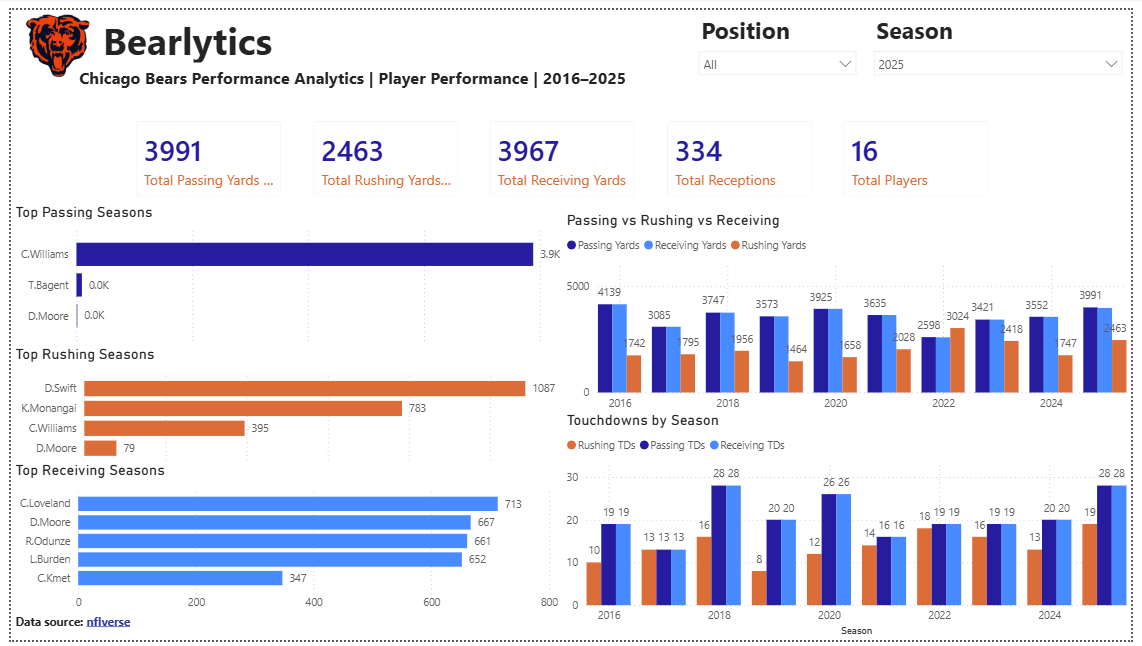

The dashboard page shown, as its layout file describes it:
{"tool":"powerbi","page":{"name":"Player Performance","canvas":[1280,720],"ordinal":2},"visuals":[{"type":"textbox","box":[100,0,220,90],"z":0},{"type":"image","box":[0,0,106.7,81.7],"z":1000},{"type":"slicer","fields":{"Values":["Dim Season.Season"]},"box":[975.7,0,304.3,100],"z":2000},{"type":"textbox","box":[73.3,60,681.7,36.7],"z":3000},{"type":"cardVisual","fields":{"Data":["Measuress.Total Passing Yards (Players)"]},"box":[126.3,110.3,200,120],"z":4000},{"type":"cardVisual","fields":{"Data":["Measuress.Total Rushing Yards (Players)"]},"box":[328.3,110.3,200,120],"z":5000},{"type":"cardVisual","fields":{"Data":["Measuress.Total Receiving Yards"]},"box":[530.3,110.3,200,120],"z":6000},{"type":"cardVisual","fields":{"Data":["Measuress.Total Receptions"]},"box":[732.3,110.3,200,120],"z":7000},{"type":"cardVisual","fields":{"Data":["Dim Date.Total Players"]},"box":[934.3,110.3,200,120],"z":8000},{"type":"clusteredBarChart","title":"Top Passing Seasons","fields":{"Category":["Dim Players.Player_Name"],"Y":["Sum(Fact Player Stats.Passing_Yards)"]},"box":[0,220,640,187.1],"z":9000},{"type":"clusteredBarChart","title":"Top Rushing Seasons","fields":{"Category":["Dim Players.Player_Name"],"Y":["Sum(Fact Player Stats.Rushing_Yards)"]},"box":[0,382.9,640,165.7],"z":10000},{"type":"clusteredBarChart","title":"Top Receiving Seasons","fields":{"Category":["Dim Players.Player_Name"],"Y":["Sum(Fact Player Stats.Receiving_Yards)"]},"box":[0,515.7,630,180],"z":11000},{"type":"clusteredColumnChart","title":"Passing vs Rushing vs Receiving","fields":{"Category":["Dim Season.Season"],"Y":["Sum(Fact Player Stats.Passing_Yards)","Sum(Fact Player Stats.Receiving_Yards)","Sum(Fact Player Stats.Rushing_Yards)"]},"box":[630,230,650,247.1],"z":12000},{"type":"clusteredColumnChart","title":"Touchdowns by Season","fields":{"Y":["Sum(Fact Player Stats.Rushing_TDs)","Sum(Fact Player Stats.Passing_TDs)","Sum(Fact Player Stats.Receiving_TDs)"],"Category":["Dim Season.Season"]},"box":[630.2,458.1,650,261.6],"z":13000},{"type":"slicer","fields":{"Values":["Dim Players.Position"]},"box":[775.7,0,200,110],"z":15000},{"type":"textbox","box":[0,684.3,144.3,35.7],"z":15001}]}

Visuals, with their boxes in screenshot pixels (x1, y1, x2, y2), scaled from the page's 1280x720 canvas onto the 1142x646 screenshot:
textbox: {"left": 89, "top": 0, "right": 286, "bottom": 81}
image: {"left": 0, "top": 0, "right": 95, "bottom": 73}
slicer - Dim Season.Season: {"left": 871, "top": 0, "right": 1141, "bottom": 90}
textbox: {"left": 65, "top": 54, "right": 674, "bottom": 87}
cardVisual - Measuress.Total Passing Yards (Players): {"left": 113, "top": 99, "right": 291, "bottom": 207}
cardVisual - Measuress.Total Rushing Yards (Players): {"left": 293, "top": 99, "right": 471, "bottom": 207}
cardVisual - Measuress.Total Receiving Yards: {"left": 473, "top": 99, "right": 652, "bottom": 207}
cardVisual - Measuress.Total Receptions: {"left": 653, "top": 99, "right": 832, "bottom": 207}
cardVisual - Dim Date.Total Players: {"left": 834, "top": 99, "right": 1012, "bottom": 207}
"Top Passing Seasons" clusteredBarChart: {"left": 0, "top": 197, "right": 571, "bottom": 365}
"Top Rushing Seasons" clusteredBarChart: {"left": 0, "top": 344, "right": 571, "bottom": 492}
"Top Receiving Seasons" clusteredBarChart: {"left": 0, "top": 463, "right": 562, "bottom": 624}
"Passing vs Rushing vs Receiving" clusteredColumnChart: {"left": 562, "top": 206, "right": 1141, "bottom": 428}
"Touchdowns by Season" clusteredColumnChart: {"left": 562, "top": 411, "right": 1141, "bottom": 645}
slicer - Dim Players.Position: {"left": 692, "top": 0, "right": 871, "bottom": 99}
textbox: {"left": 0, "top": 614, "right": 129, "bottom": 645}
